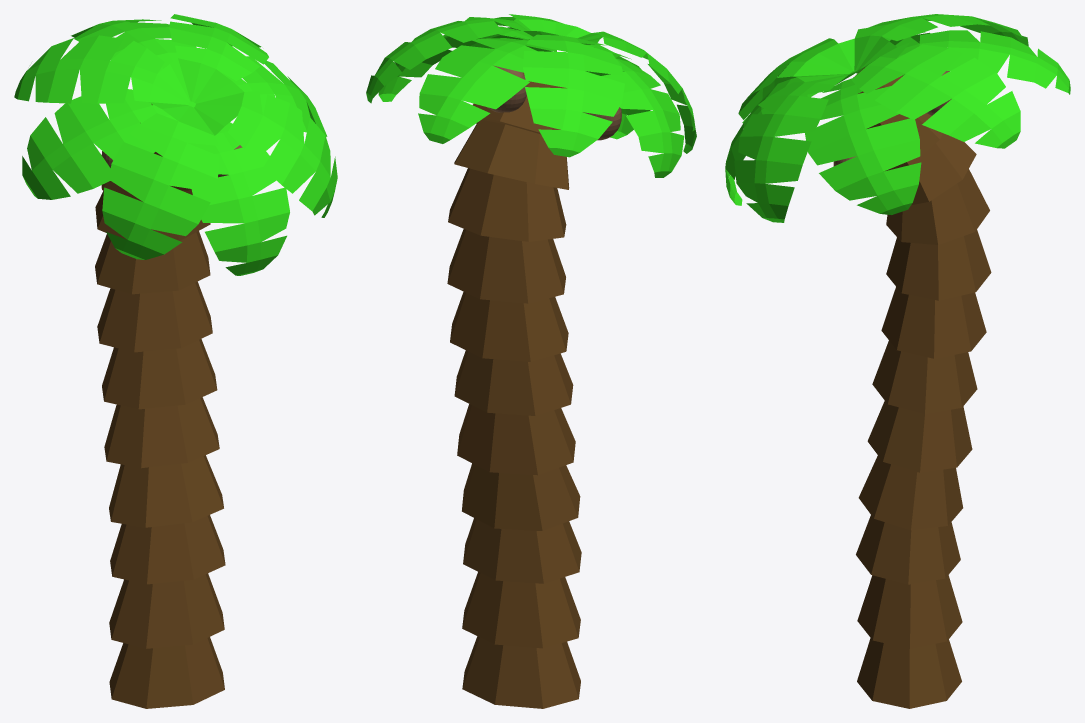
File: Sombrilla.fbx
3 views of the same model, side by side, from view 1: azimuth 30°, elevation 25°; view 2: azimuth 150°, elevation 25°; view 3: azimuth 270°, elevation 25° (orthographic). The views are drawn at different scales.
Visible parts, largest first — view 1: Palmera; view 2: Palmera; view 3: Palmera.
Part boxes in pixels (left/top/right/bottom): Palmera: left=14, top=14, right=337, bottom=708; Palmera: left=366, top=14, right=696, bottom=708; Palmera: left=725, top=14, right=1070, bottom=708.
Size of the model in its own units: 225 by 497 by 241.
Materials: 1 (1 with a texture image).
